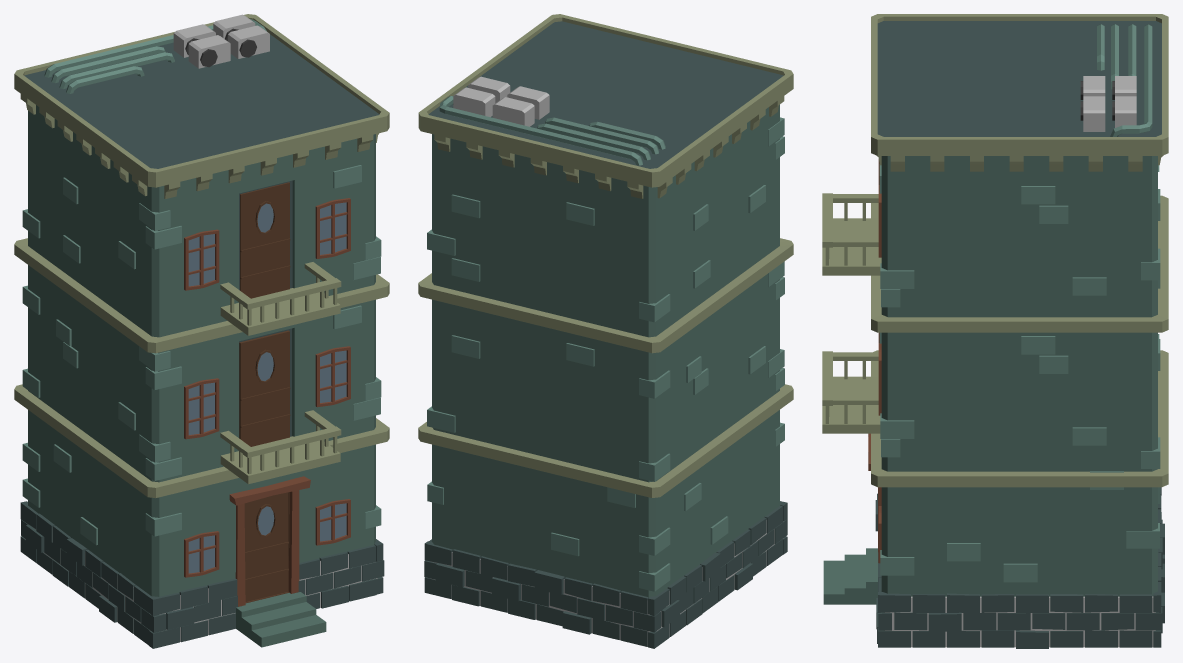
File: q_bldg_wide.glb
The picture shows the model from 3 angles, left to right: view 1: azimuth 30°, elevation 25°; view 2: azimuth 150°, elevation 25°; view 3: azimuth 270°, elevation 25°; orthographic projection. The views are drawn at different scales.
Parts seen in each view (by area): view 1: 3Story_Balcony_Mat; view 2: 3Story_Balcony_Mat; view 3: 3Story_Balcony_Mat.
Part boxes in pixels (left/top/right/bottom): 3Story_Balcony_Mat: left=14, top=14, right=389, bottom=648; 3Story_Balcony_Mat: left=418, top=14, right=793, bottom=648; 3Story_Balcony_Mat: left=822, top=14, right=1168, bottom=648.
Bounding box in the file's own units: 2.16 × 4.21 × 2.51.
